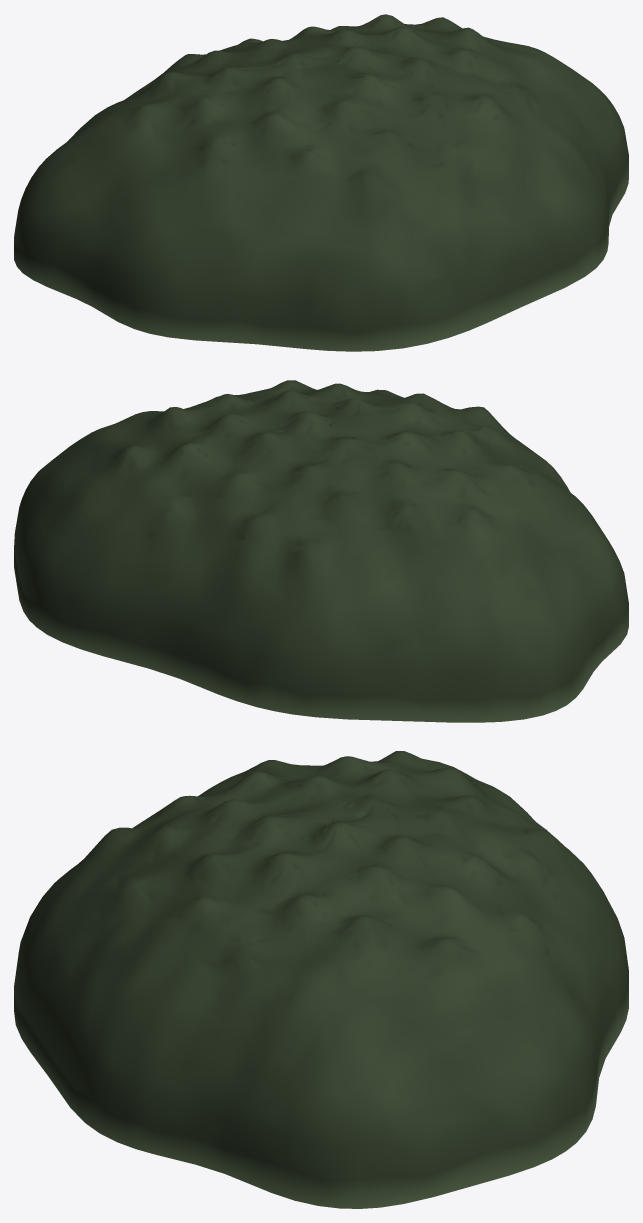
The model's file is massive-stromatoporoid.lod1.glb.
The picture shows the model from 3 angles, top to bottom: view 1: azimuth 30°, elevation 25°; view 2: azimuth 150°, elevation 25°; view 3: azimuth 270°, elevation 25°; orthographic projection. The views are drawn at different scales.
Parts seen in each view (by area): view 1: massive-stromatoporoid; view 2: massive-stromatoporoid; view 3: massive-stromatoporoid.
Boxes of the visible parts, x1,y1,x2,y2 form: massive-stromatoporoid: [14, 14, 628, 351]; massive-stromatoporoid: [14, 380, 628, 722]; massive-stromatoporoid: [14, 751, 628, 1208].
Size of the model in its own units: 1.19 by 0.3743 by 0.9251.
